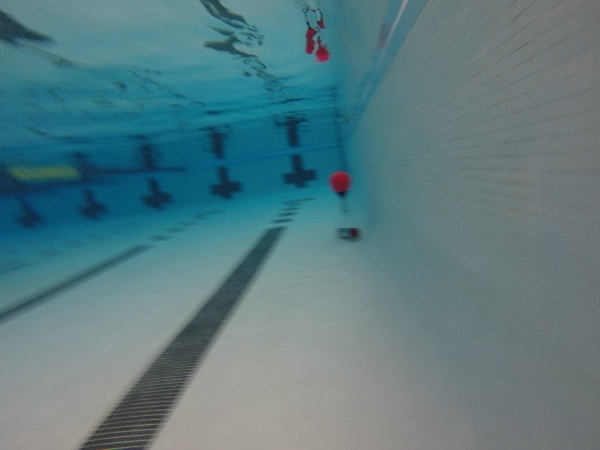buoy_red: (328, 171, 353, 198)
